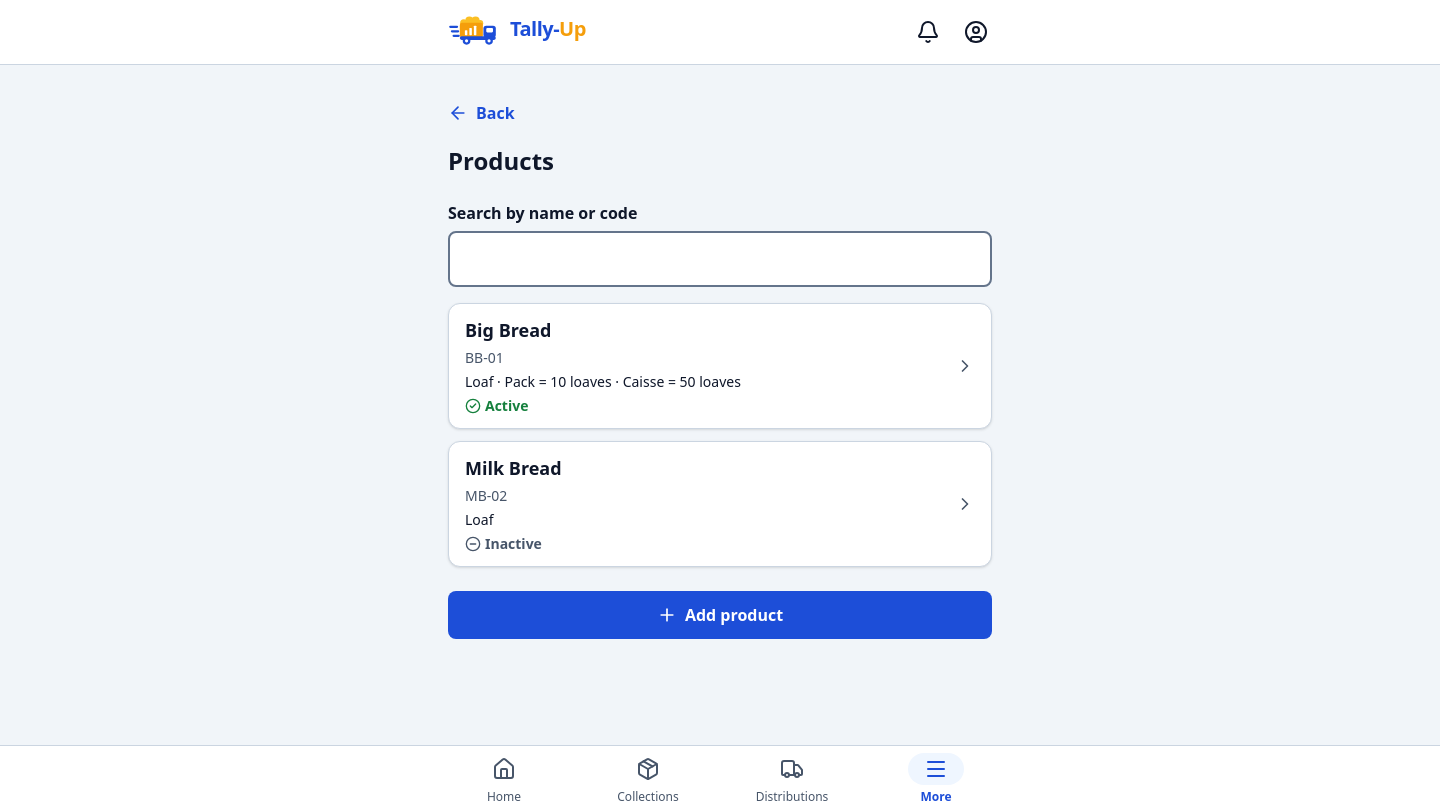
Test: Products list › filters by name or code, ignoring case
In the field labelled "Search by name or code": [720, 259] box [448,231,992,287], type "mb-"
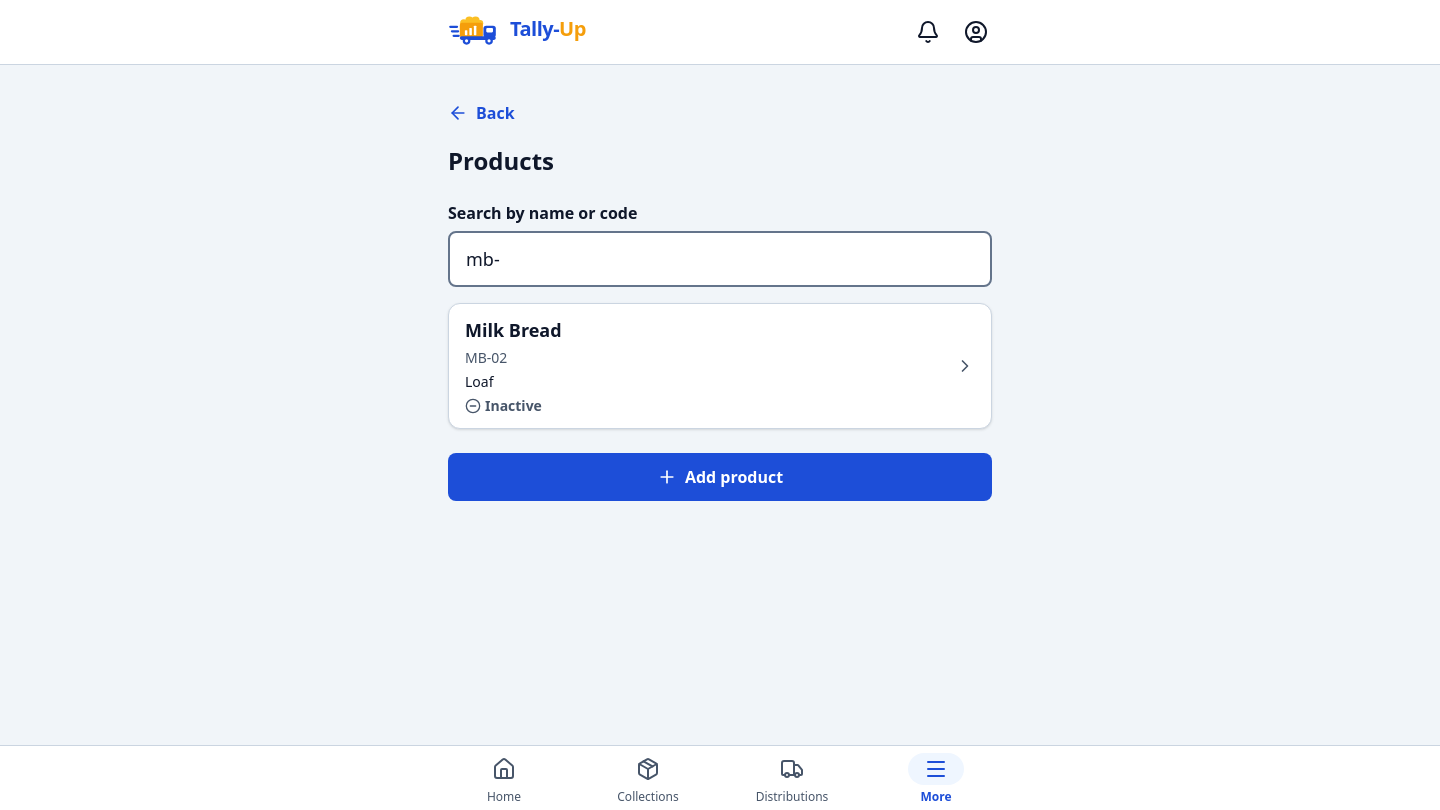
Expected: the link "Milk Bread MB-02 Loaf Inactive" is shown, [448,303,992,429]
Expected: the link "Big Bread" is gone
Replace the text in the field labelled "Search by name or code" with "croissant": [720, 259] box [448,231,992,287]
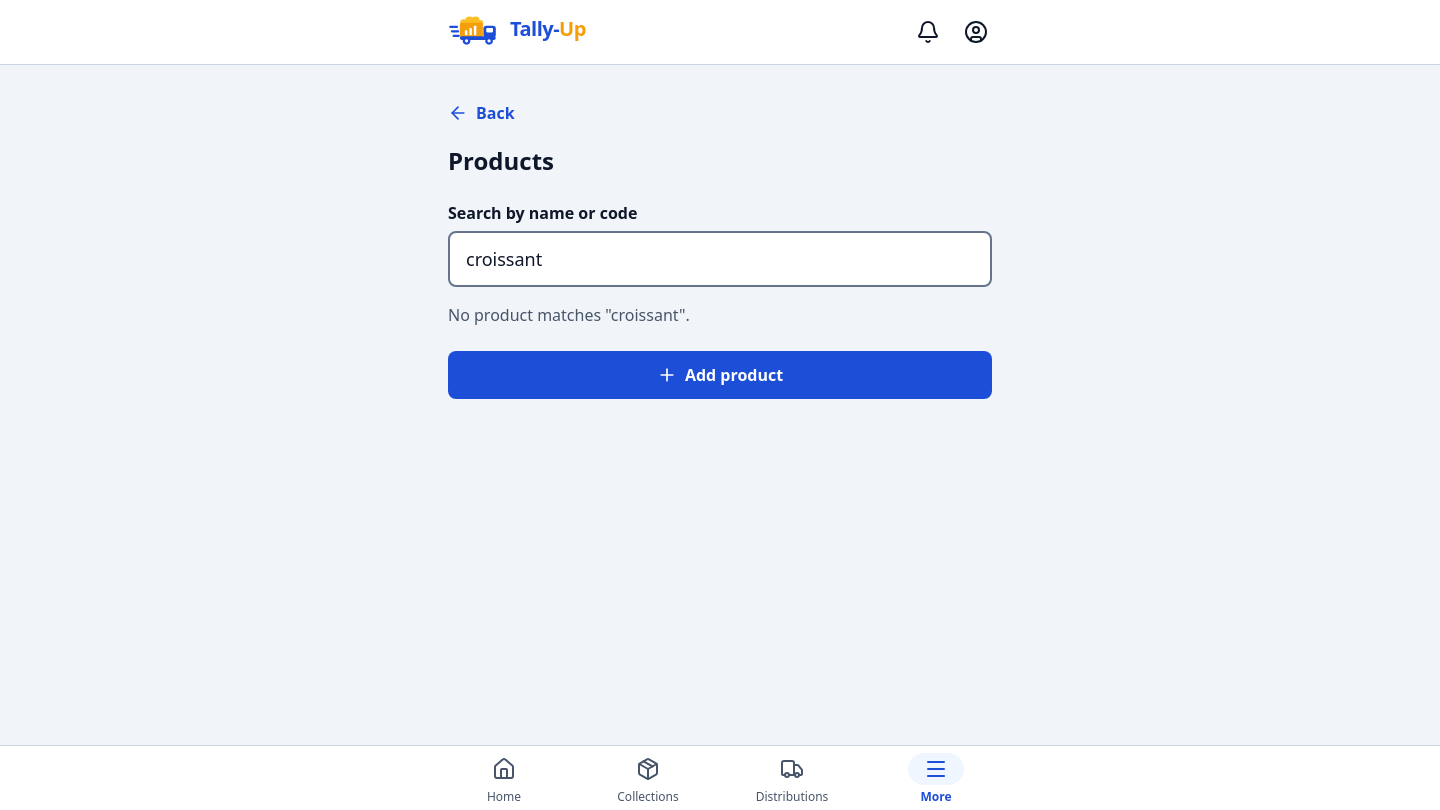
Expected: the text "No product matches \"croissant\"." is shown, [448,304,690,326]
